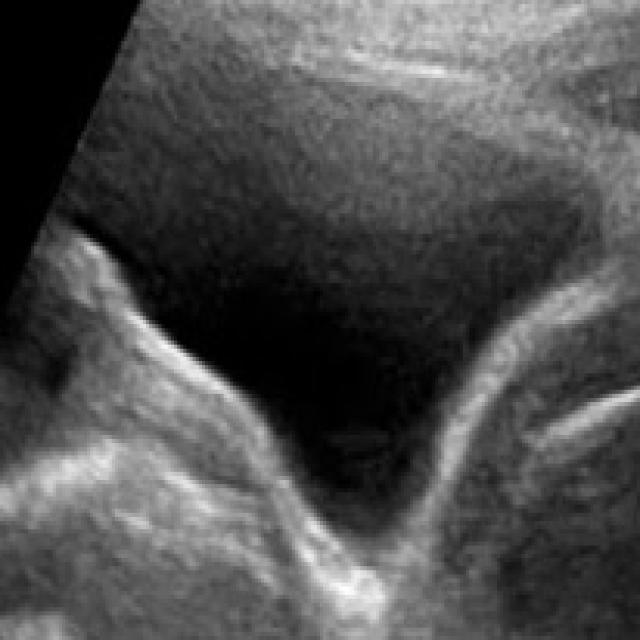bladder: (38, 9, 622, 590)
